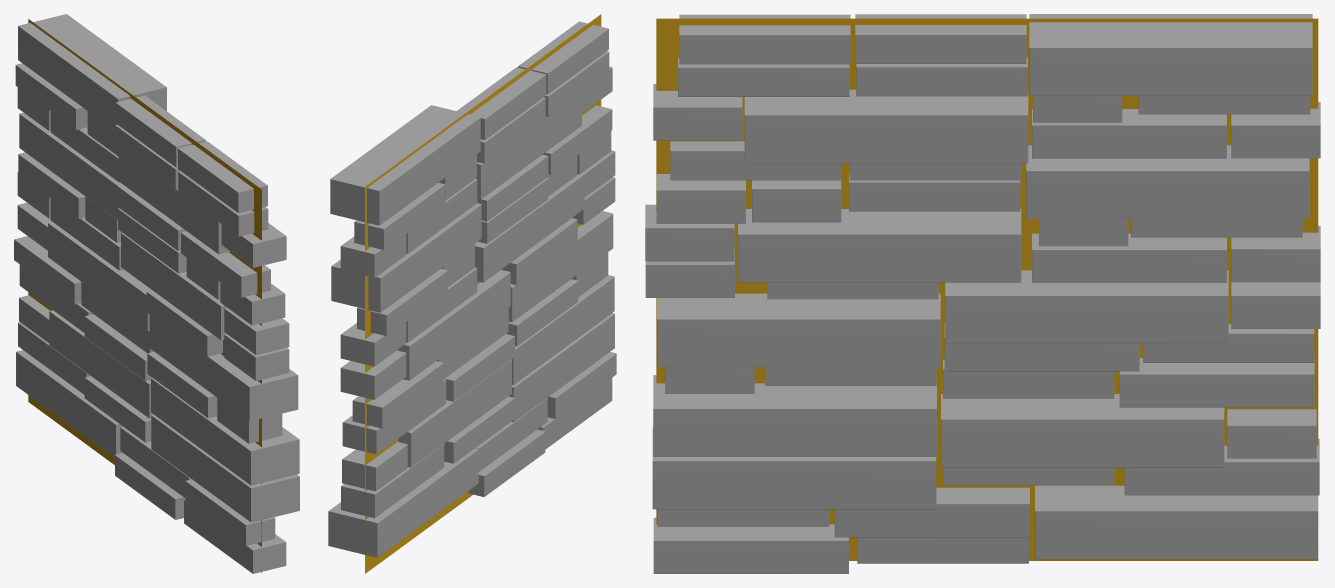
The model's file is Wall assembly 2.fbx.
The picture shows the model from 3 angles, left to right: view 1: azimuth 30°, elevation 25°; view 2: azimuth 150°, elevation 25°; view 3: azimuth 270°, elevation 25°; orthographic projection. The views are drawn at different scales.
Visible parts, largest first — view 1: pCube46; view 2: pCube46; view 3: pCube46.
Boxes of the visible parts, x1,y1,x2,y2 form: pCube46: (14,14,299,573); pCube46: (328,14,616,573); pCube46: (645,14,1320,573).
Size of the model in its own units: 28.79 by 201 by 227.
